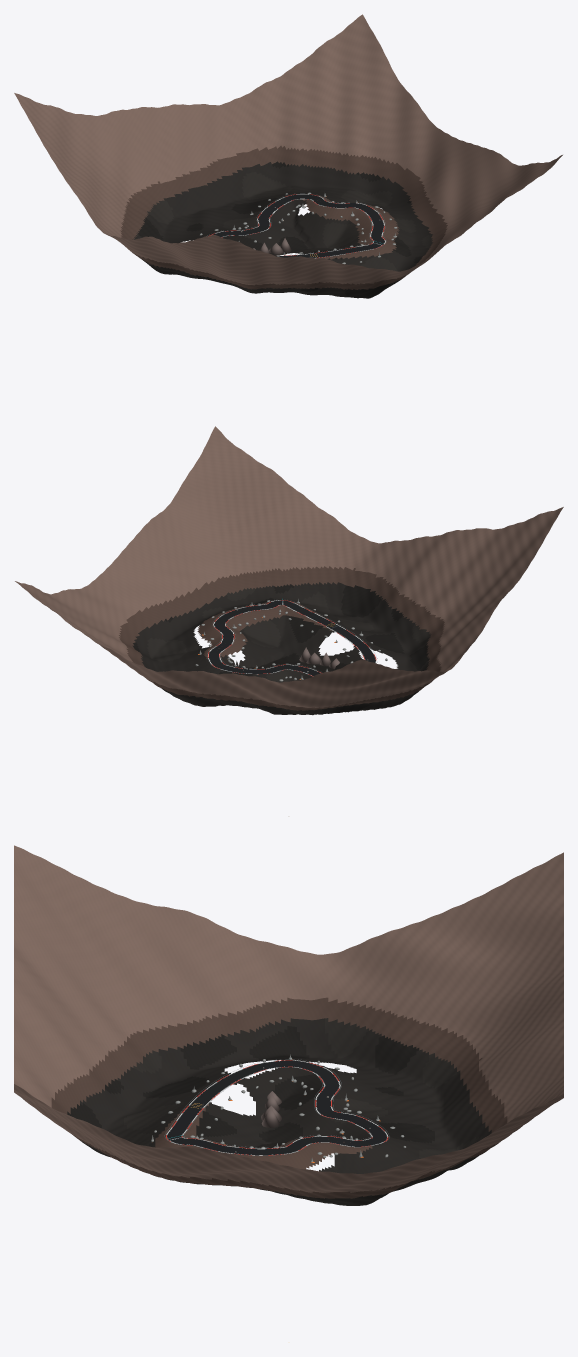
File: ember_crater.glb
3 renders of one model, top to bottom at view 1: azimuth 30°, elevation 25°; view 2: azimuth 150°, elevation 25°; view 3: azimuth 270°, elevation 25°, orthographic. The views are drawn at different scales.
Parts seen in each view (by area): view 1: ember_crater - Blender Mountain Course - Combined Blender Ge; view 2: ember_crater - Blender Mountain Course - Combined Blender Ge; view 3: ember_crater - Blender Mountain Course - Combined Blender Ge.
Part boxes in pixels (x1=…): ember_crater - Blender Mountain Course - Combined Blender Ge: x1=14, y1=14, x2=562, y2=298; ember_crater - Blender Mountain Course - Combined Blender Ge: x1=15, y1=426, x2=563, y2=715; ember_crater - Blender Mountain Course - Combined Blender Ge: x1=14, y1=845, x2=563, y2=1205.
Bounding box in the file's own units: 889 × 680 × 889.
24 materials, 6 textured.
